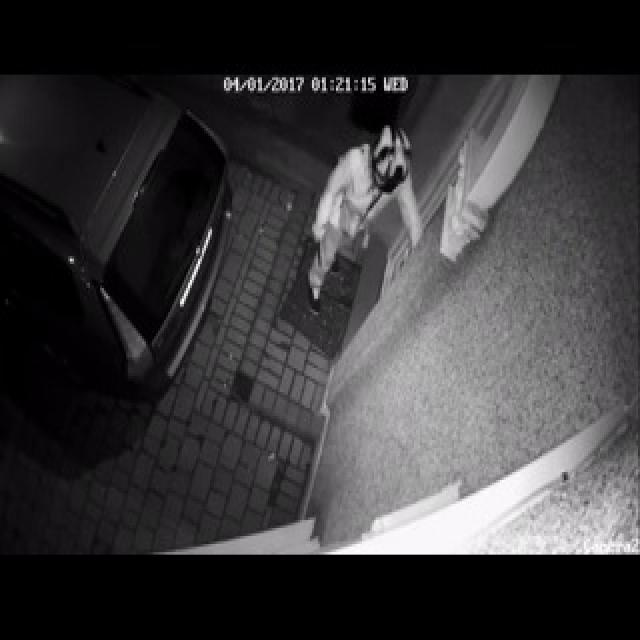thief: (297, 112, 431, 324)
